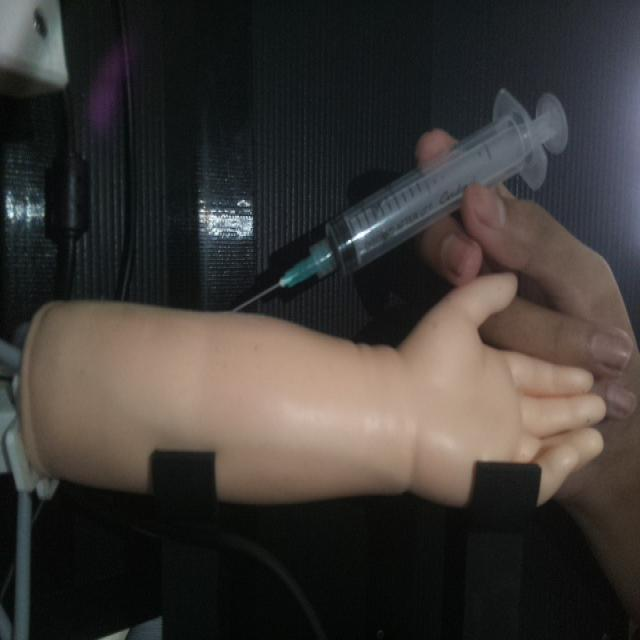Outside: (229, 84, 570, 313)
